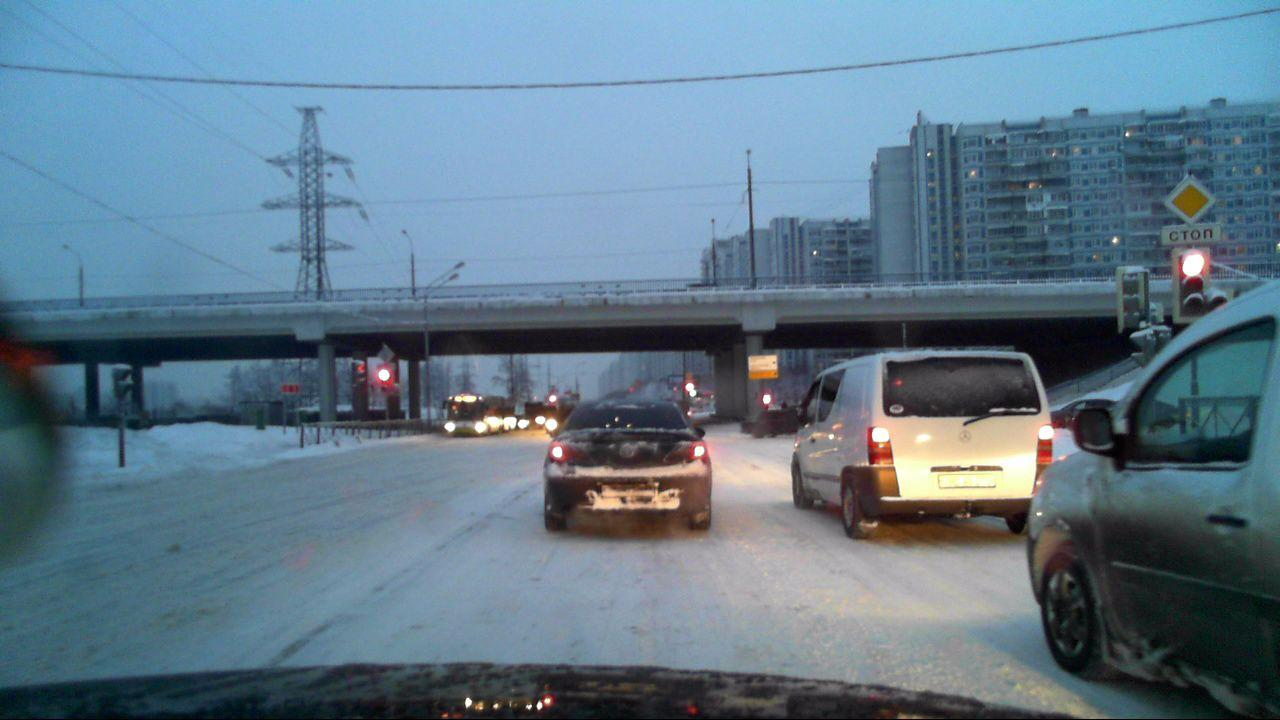2_1: (1165, 177, 1212, 223)
6_16: (1164, 223, 1224, 250)
